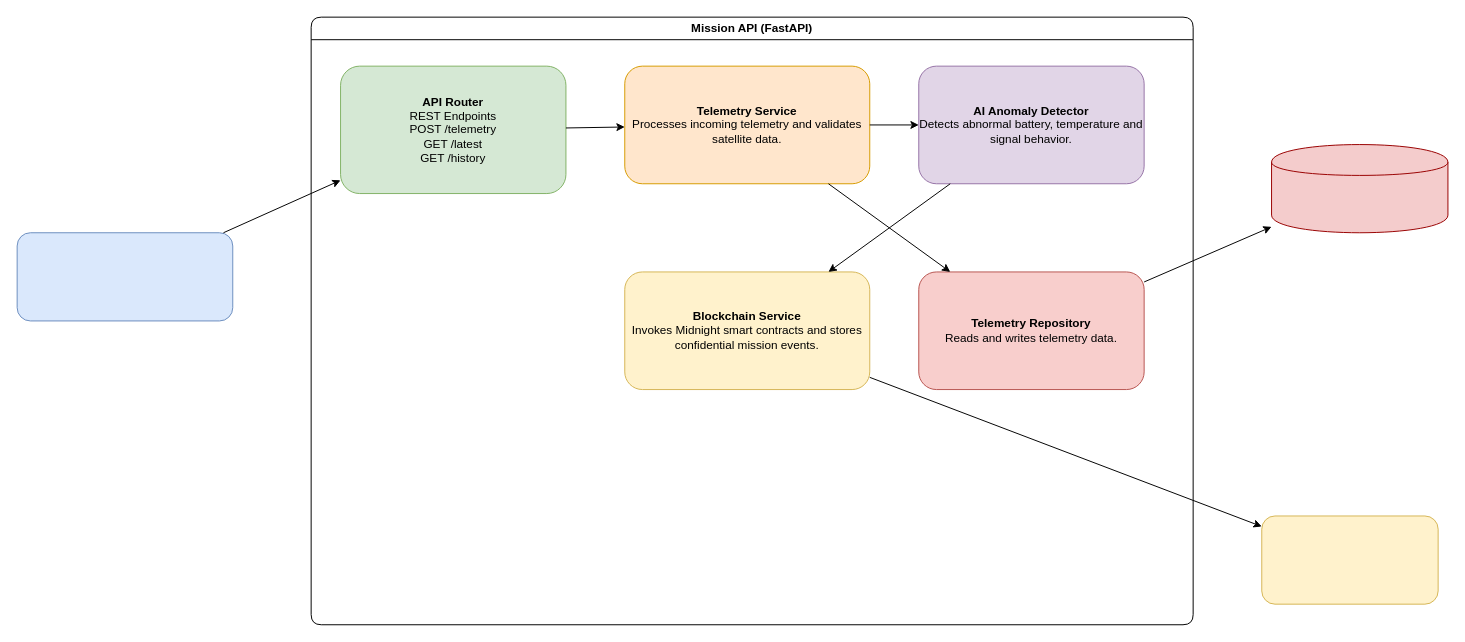
Some shapes in this 1465 by 642 pixel diagram are drawn without their labels. The shapes that lost their labels are listed below. From the top down, each one's box as (x1, y1, x2, y2) in pixels, then its label:
(1271, 144, 1448, 233): SQLite Database
(16, 232, 233, 321): Web Dashboard React Application
(1261, 515, 1438, 604): Midnight Smart Contract
